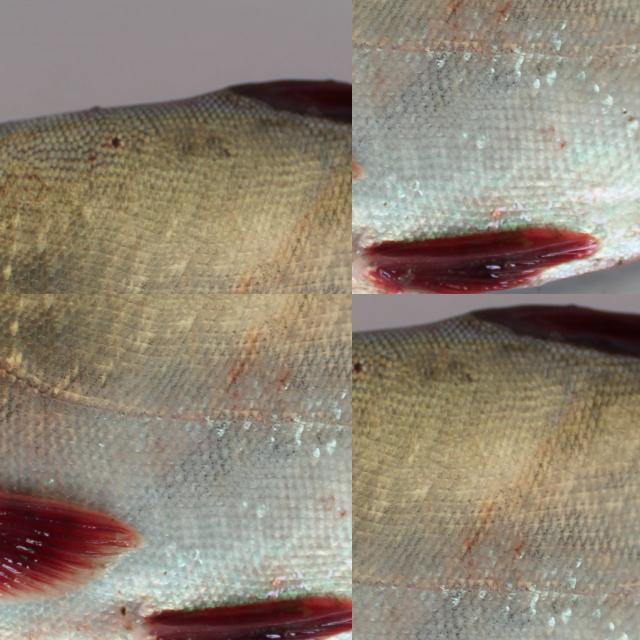fish: (352, 294, 640, 640)
